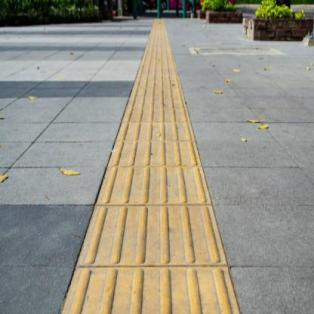Podoctatil: (62, 24, 242, 311)
